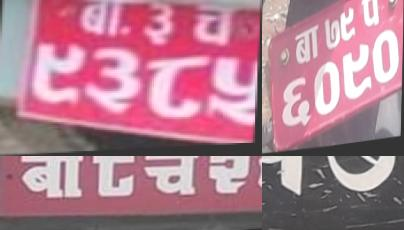0: (371, 29, 402, 92), (313, 62, 342, 121)
1: (262, 156, 309, 206)
2: (204, 156, 249, 199)
3: (86, 46, 146, 116), (140, 0, 186, 49)
5: (206, 54, 259, 131)
6: (278, 72, 313, 134)
7: (312, 156, 402, 211), (323, 17, 341, 56)
8: (143, 52, 212, 125), (88, 156, 136, 201)
9: (31, 39, 89, 115), (341, 44, 374, 106), (339, 7, 357, 48)
ba: (14, 156, 85, 204), (74, 0, 140, 46), (294, 22, 320, 68)
cha: (186, 2, 248, 52), (139, 156, 198, 201)
pa: (360, 0, 383, 35)
